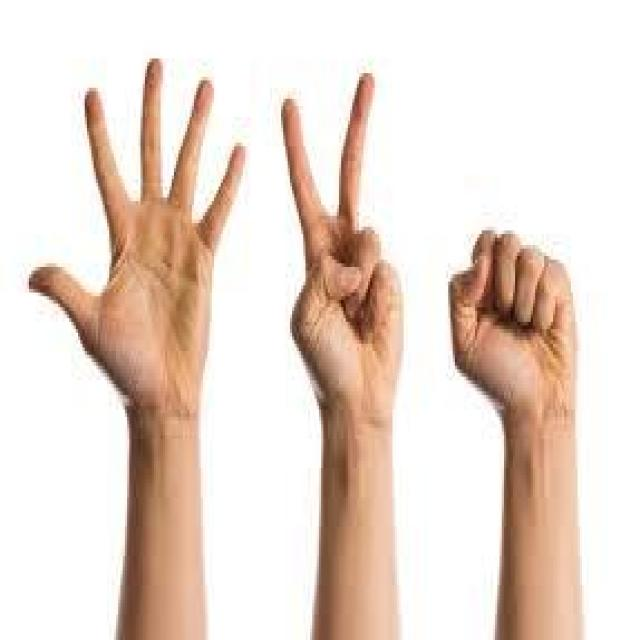paper: (23, 43, 251, 432)
rock: (440, 203, 610, 468)
scirssors: (268, 70, 412, 437)
